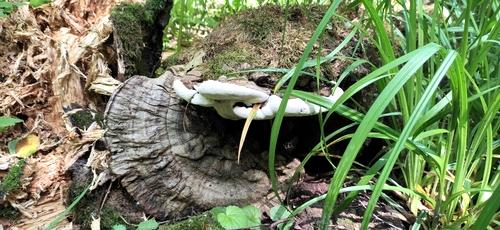Ganoderma - Fruit Body: (103, 72, 346, 222)
